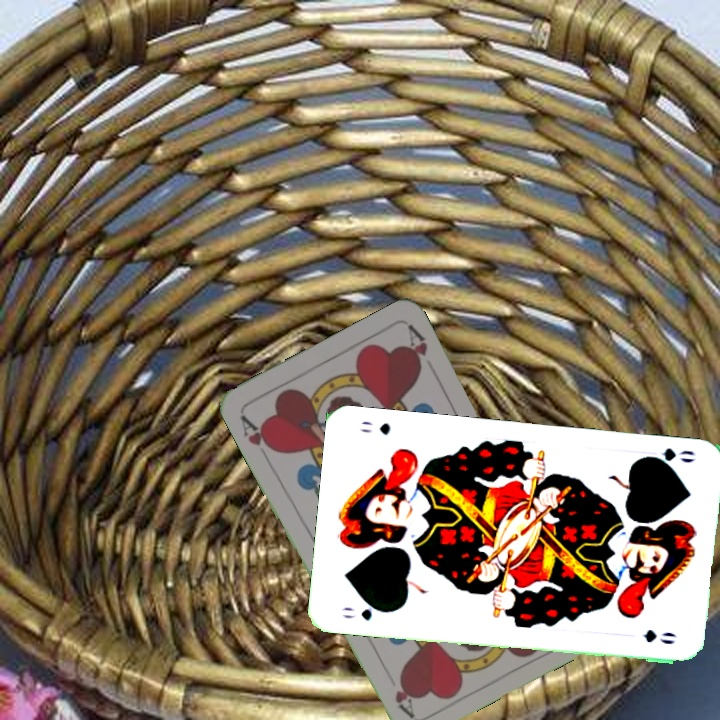GO: (638, 443, 698, 470), (338, 601, 392, 623)
HA: (236, 410, 280, 457)
